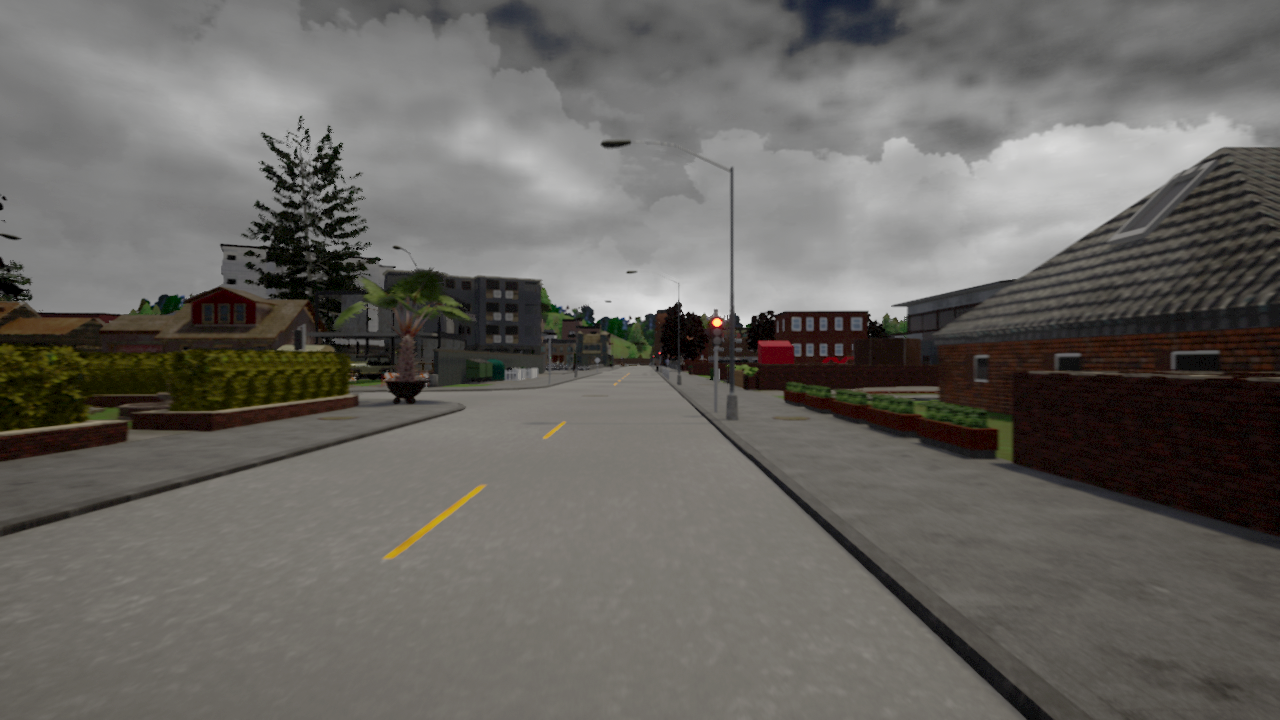red: (710, 317, 724, 345)
